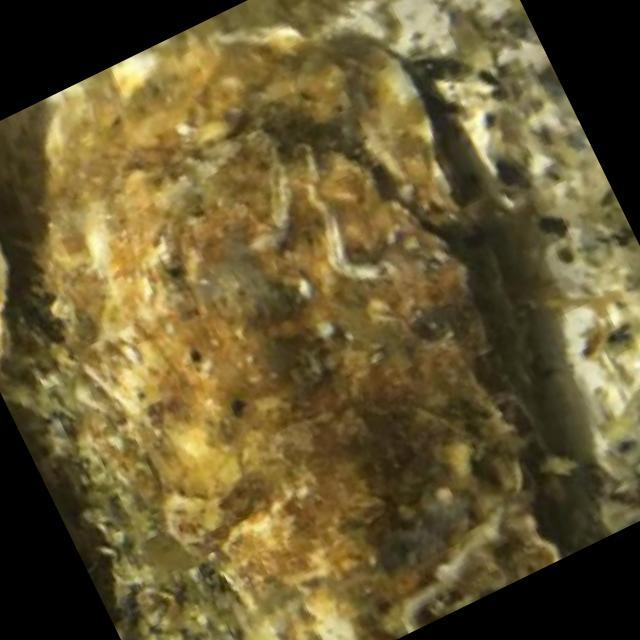Oyster- Indeterminate: (91, 41, 570, 640)
